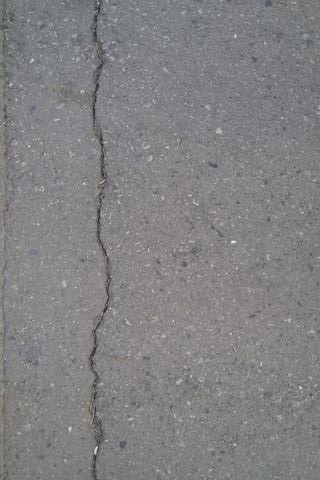A: (86, 1, 115, 480)
